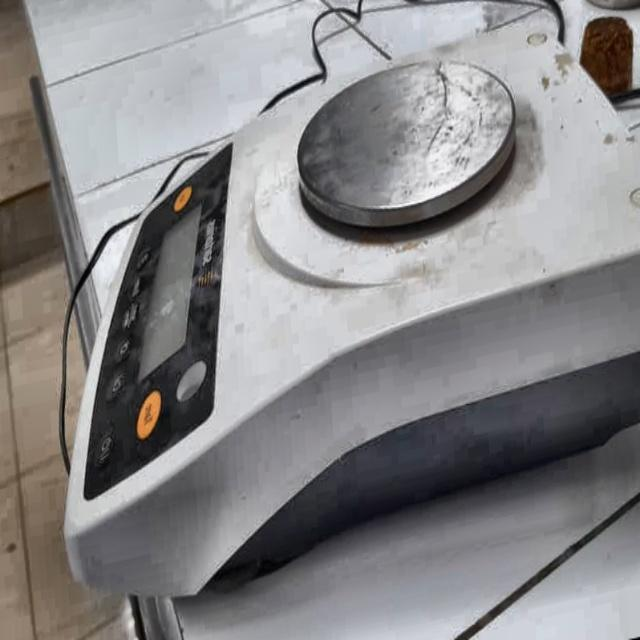Electronic balance: (36, 8, 562, 634)
